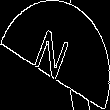N_SW: (33, 23, 77, 87)
